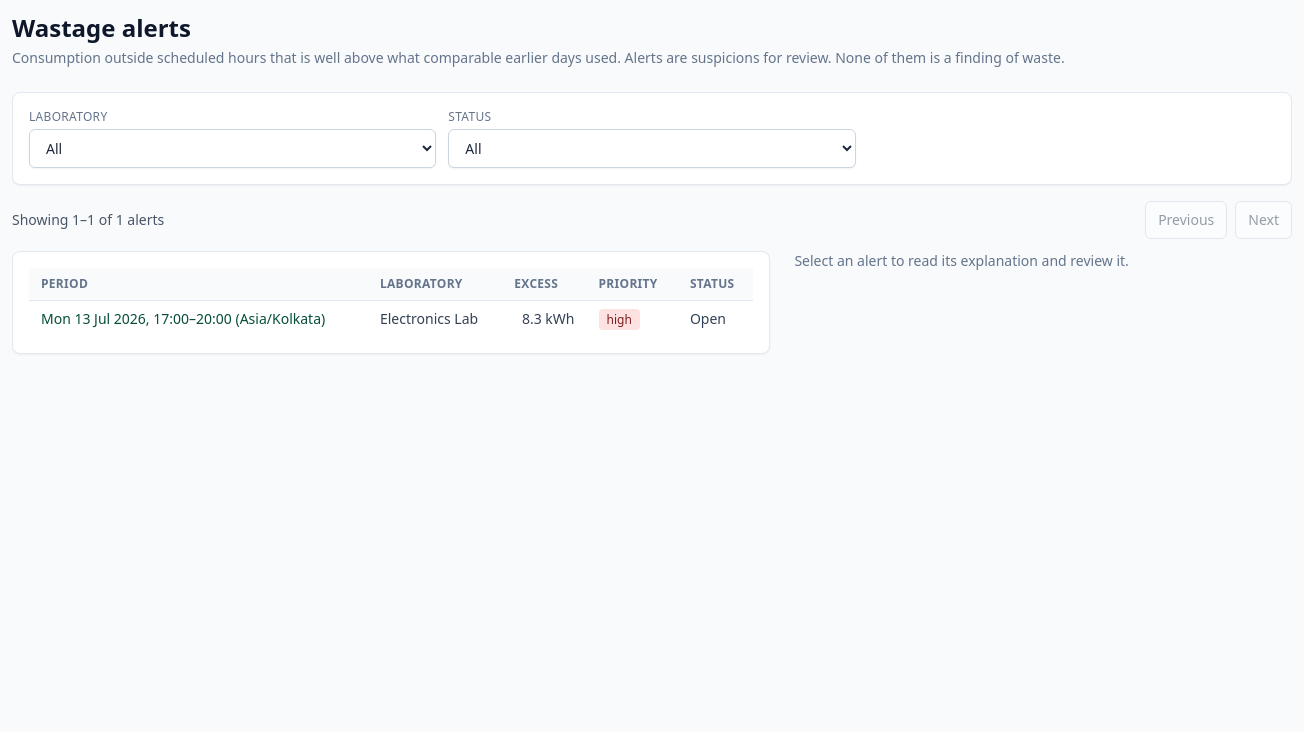
Test: Alerts page › shows evaluators the alert but none of the review actions
The image size is (1304, 732).
Click the button "Mon 13 Jul 2026, 17:00–20:00 (Asia/Kolkata)".
click(183, 319)  # box [41, 309, 325, 329]
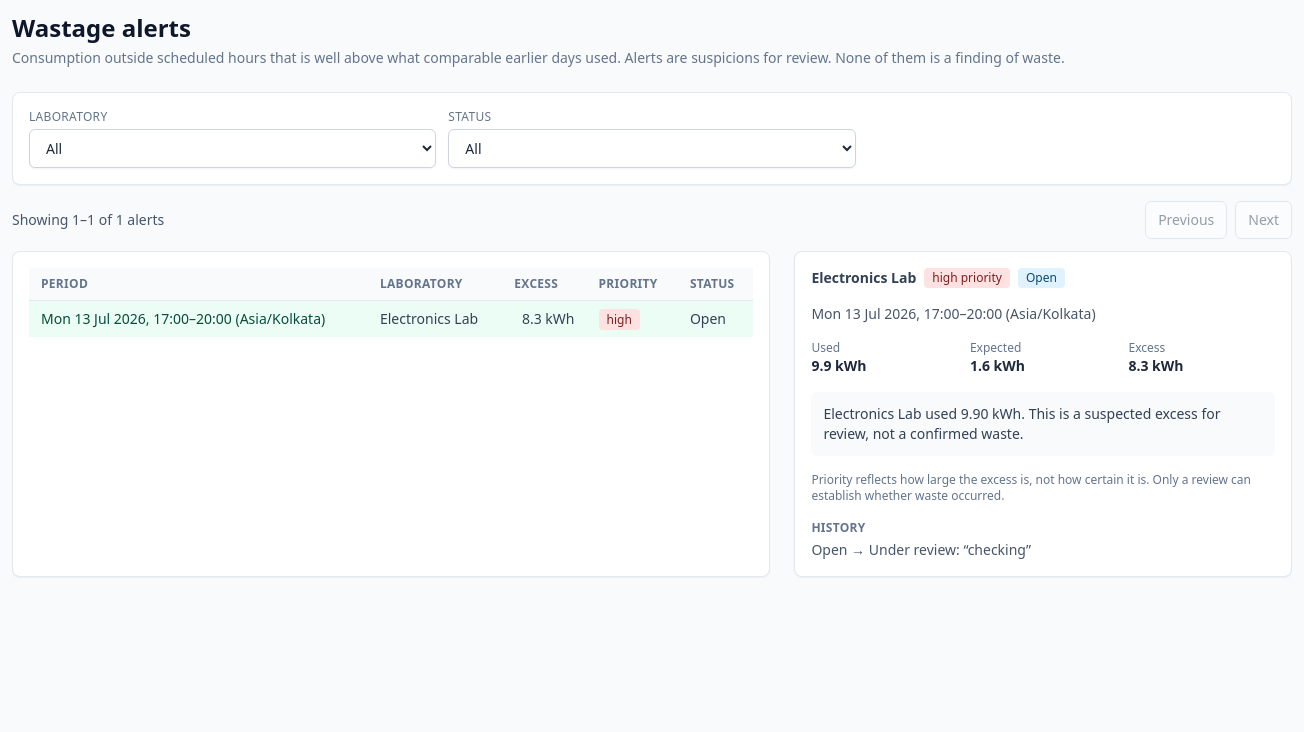
Result: the text "not a confirmed waste" is shown at [823, 404, 1220, 443]
